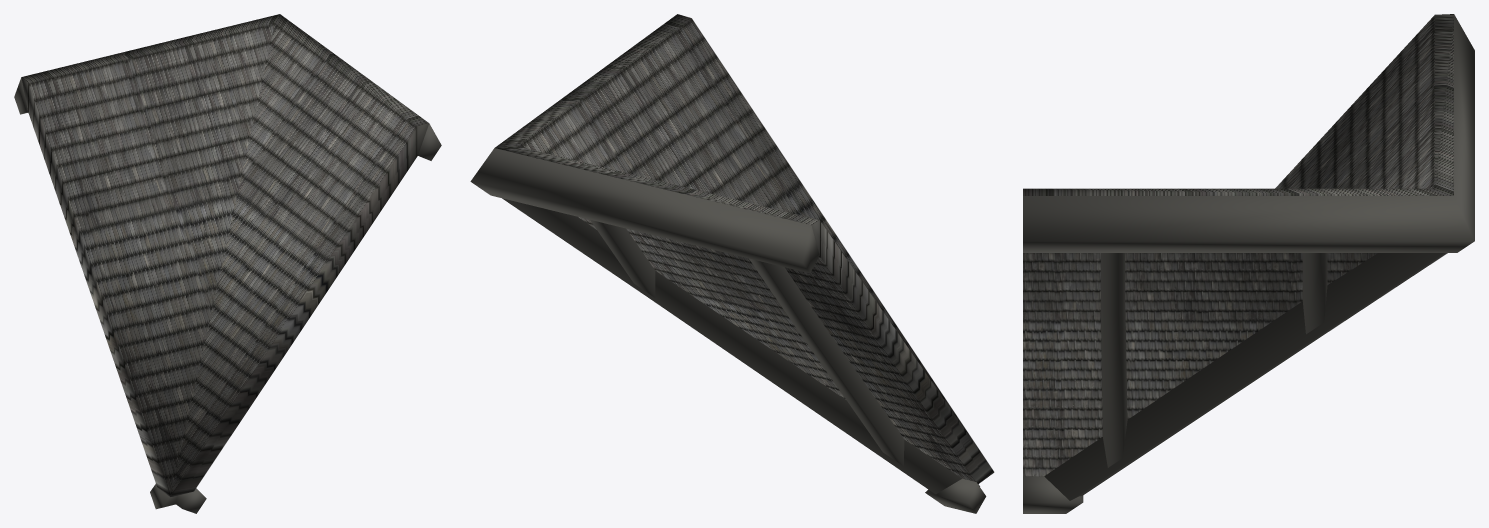
File: ROOF CORNER2.fbx
3 views of the same model, side by side, from view 1: azimuth 30°, elevation 25°; view 2: azimuth 150°, elevation 25°; view 3: azimuth 270°, elevation 25° (orthographic). The views are drawn at different scales.
Visible parts, largest first — view 1: RoofCorner2; view 2: RoofCorner2; view 3: RoofCorner2.
Part boxes in pixels (bbox=[...]): RoofCorner2: bbox=[14, 14, 441, 513]; RoofCorner2: bbox=[470, 14, 994, 513]; RoofCorner2: bbox=[1023, 14, 1474, 513].
Size of the model in its own units: 262 by 308 by 262.
